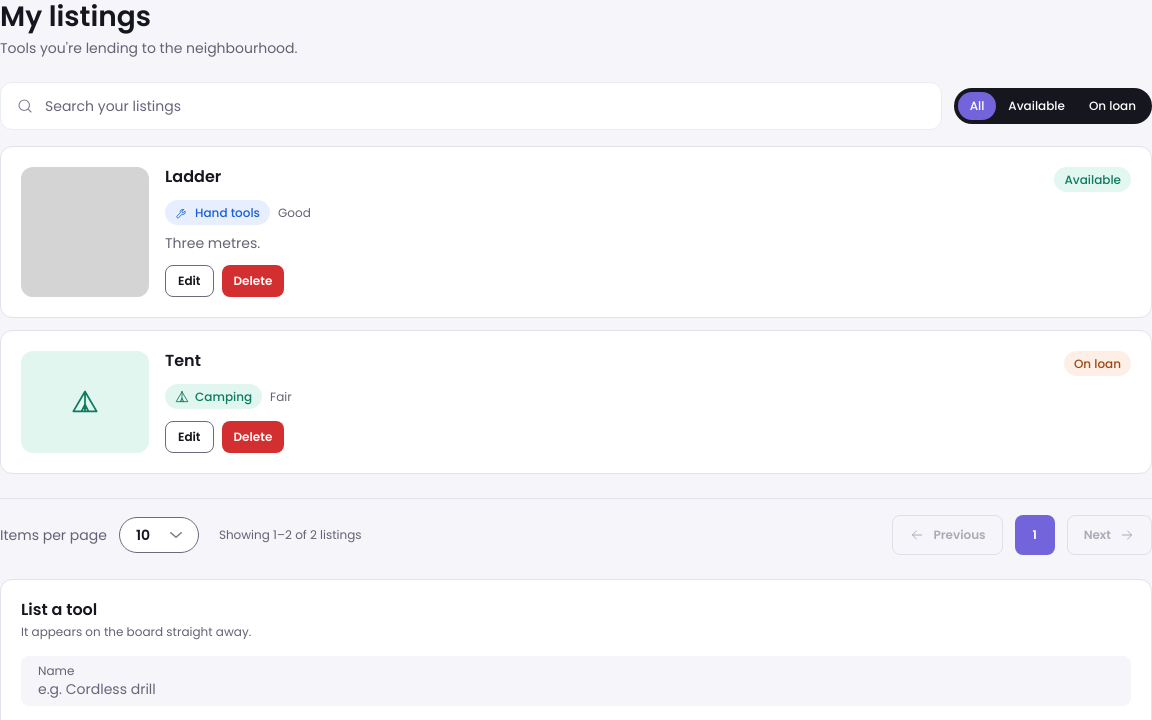
Test: ListingsScreen › delete asks in a dialog; Keep backs out, Delete listing removes
Click the button "Delete" below "Three metres.". click: (253, 281)
box: top-left (222, 265), bottom-right (284, 297)
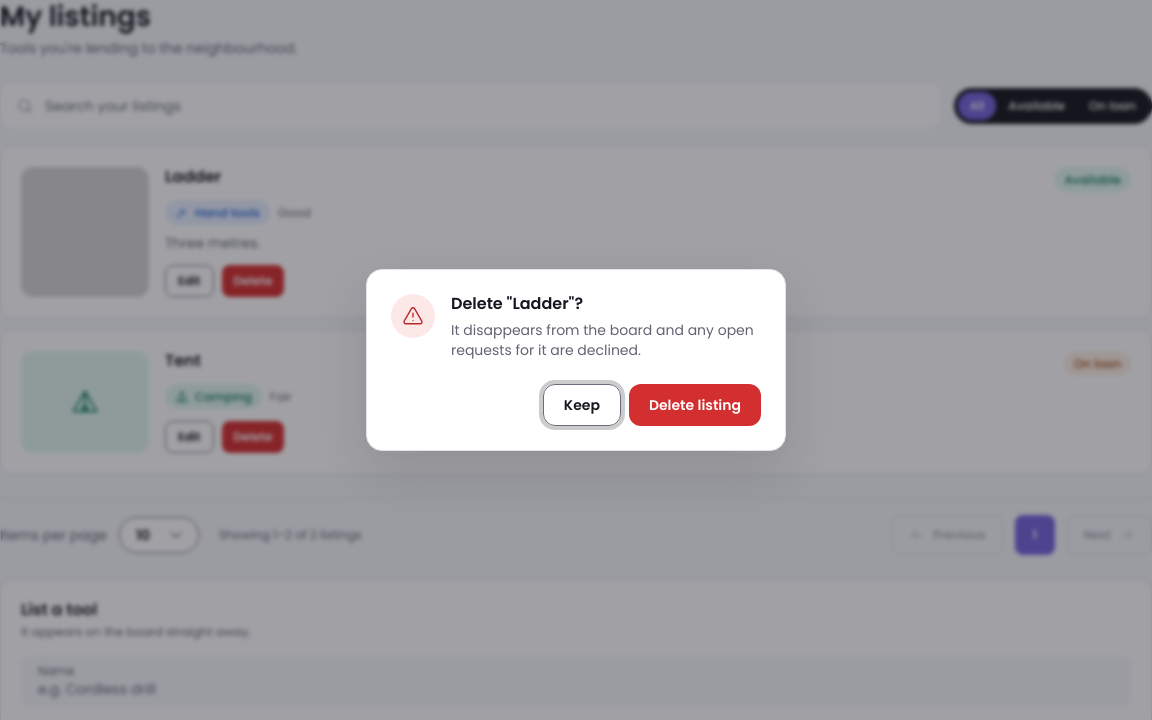
Click the button "Keep". click: (582, 405)
box: top-left (543, 384), bottom-right (621, 426)
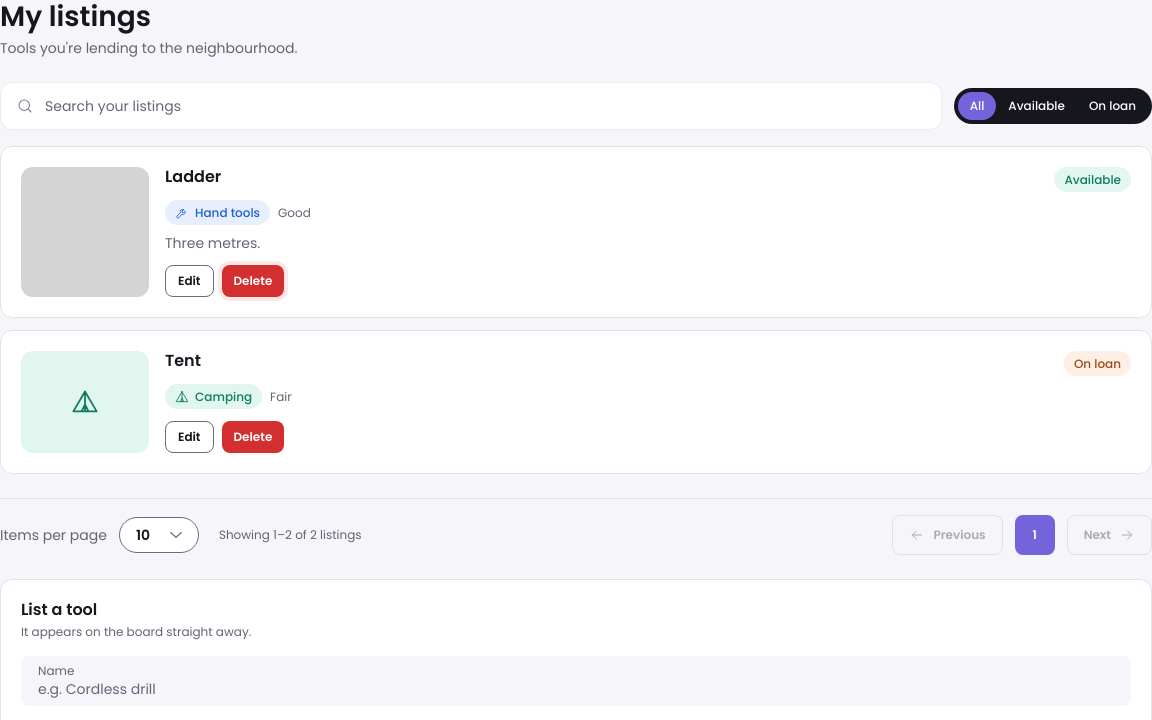
Click the button "Delete" below "Three metres.". click: (253, 281)
box: top-left (222, 265), bottom-right (284, 297)
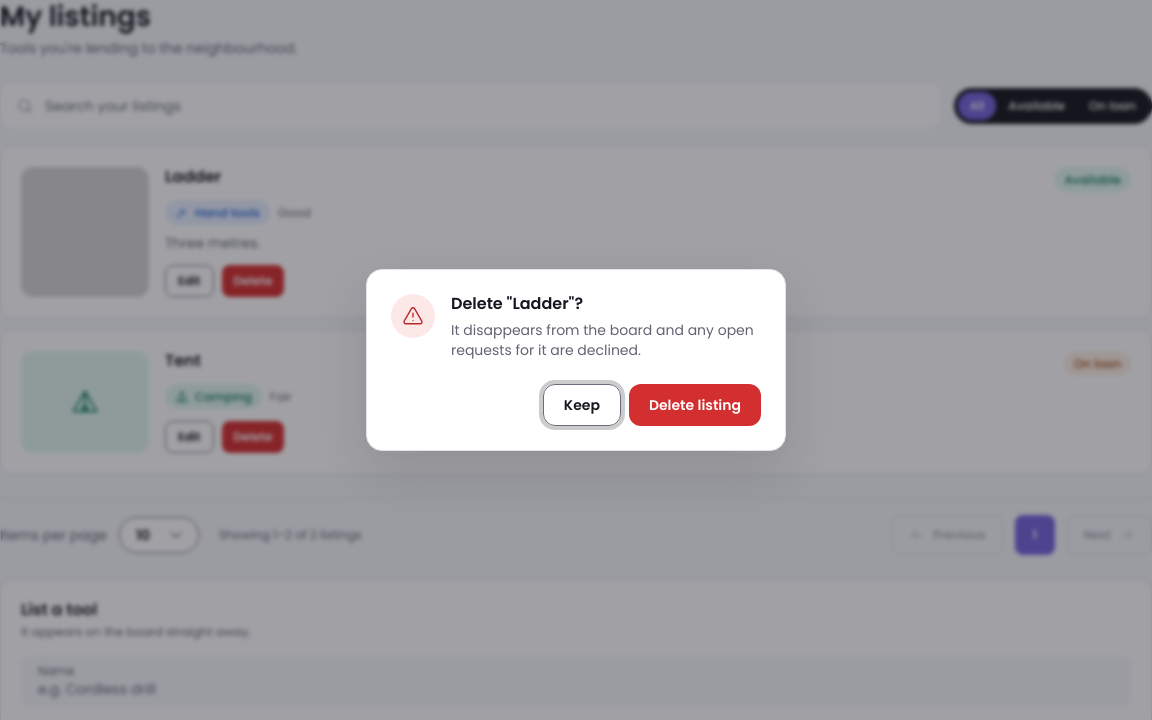
Click the button "Delete listing". click: (695, 405)
box: top-left (629, 384), bottom-right (761, 426)
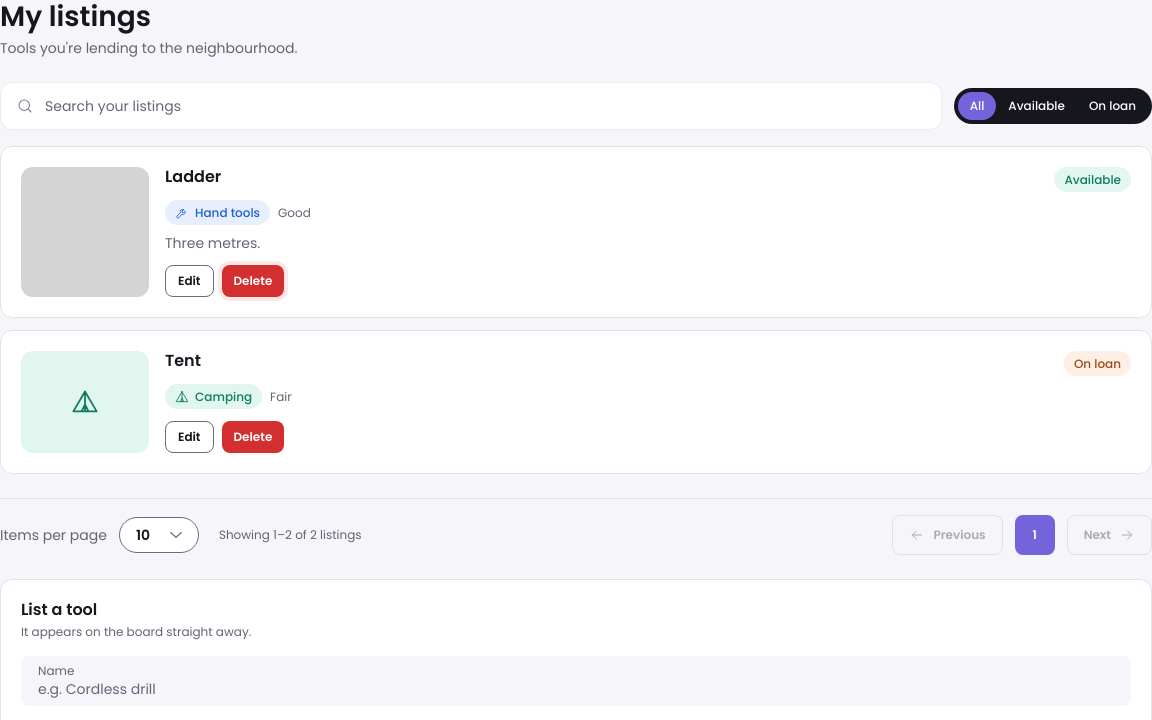
Check: the dialog is gone
